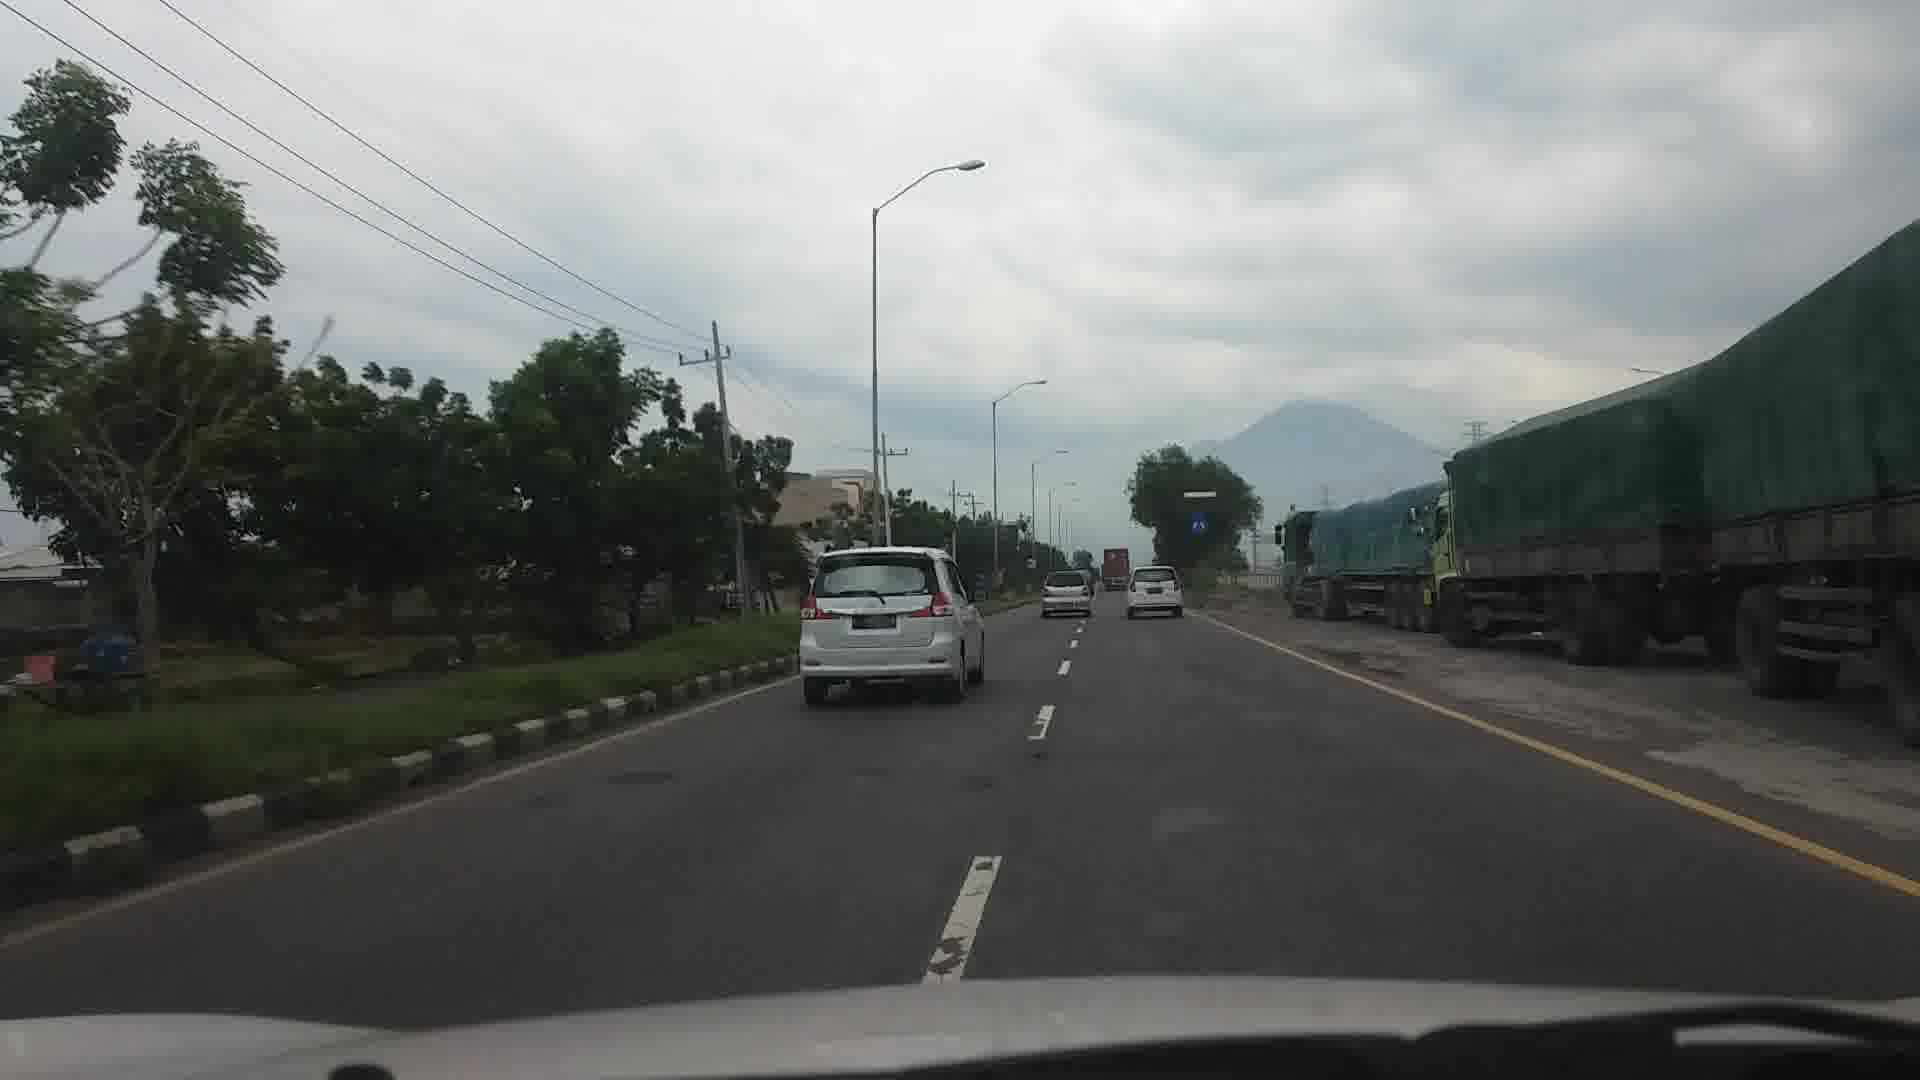plate_positive: (853, 615, 895, 630)
